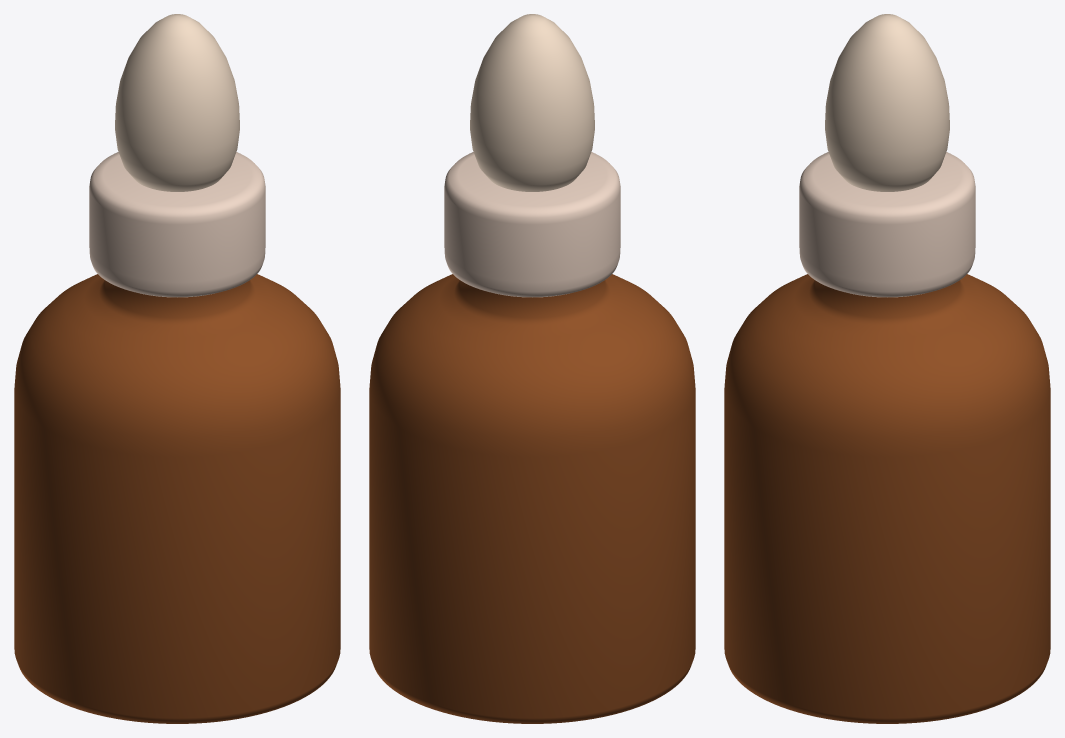
Rendered from ambar-bottle.glb.
3 renders of one model, left to right at view 1: azimuth 30°, elevation 25°; view 2: azimuth 150°, elevation 25°; view 3: azimuth 270°, elevation 25°, orthographic.
Visible parts, largest first — view 1: Bottle_Glass, Cap_Collar, Dropper_Bulb; view 2: Bottle_Glass, Cap_Collar, Dropper_Bulb; view 3: Bottle_Glass, Cap_Collar, Dropper_Bulb.
Part boxes in pixels (x1,y1,x2,y2): Bottle_Glass: [14, 274, 340, 723]; Cap_Collar: [89, 152, 265, 297]; Dropper_Bulb: [115, 14, 239, 191]; Bottle_Glass: [369, 274, 695, 723]; Cap_Collar: [444, 152, 620, 297]; Dropper_Bulb: [470, 14, 594, 191]; Bottle_Glass: [724, 274, 1050, 723]; Cap_Collar: [799, 152, 975, 297]; Dropper_Bulb: [825, 14, 949, 191].
Bounding box in the file's own units: 0.64 × 1.39 × 0.64.
